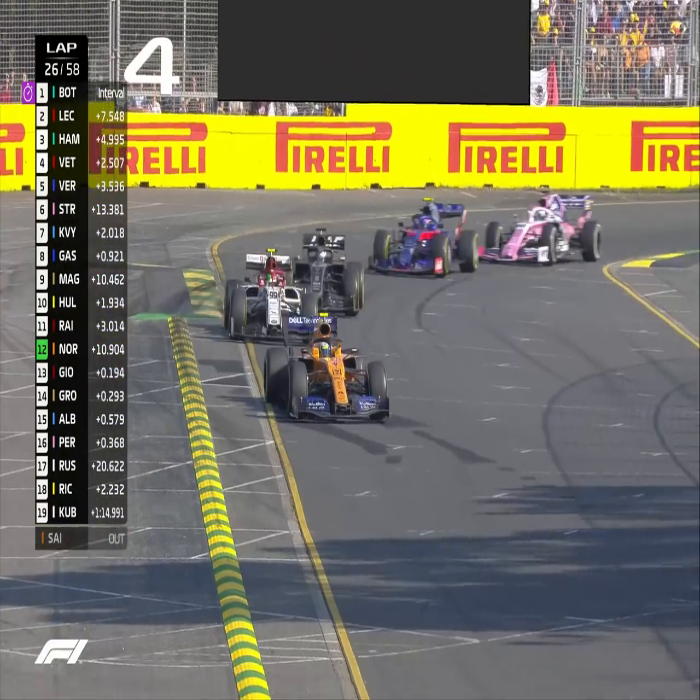f1_car: (260, 311, 392, 433), (362, 191, 485, 283), (485, 182, 604, 276), (220, 245, 320, 335)
